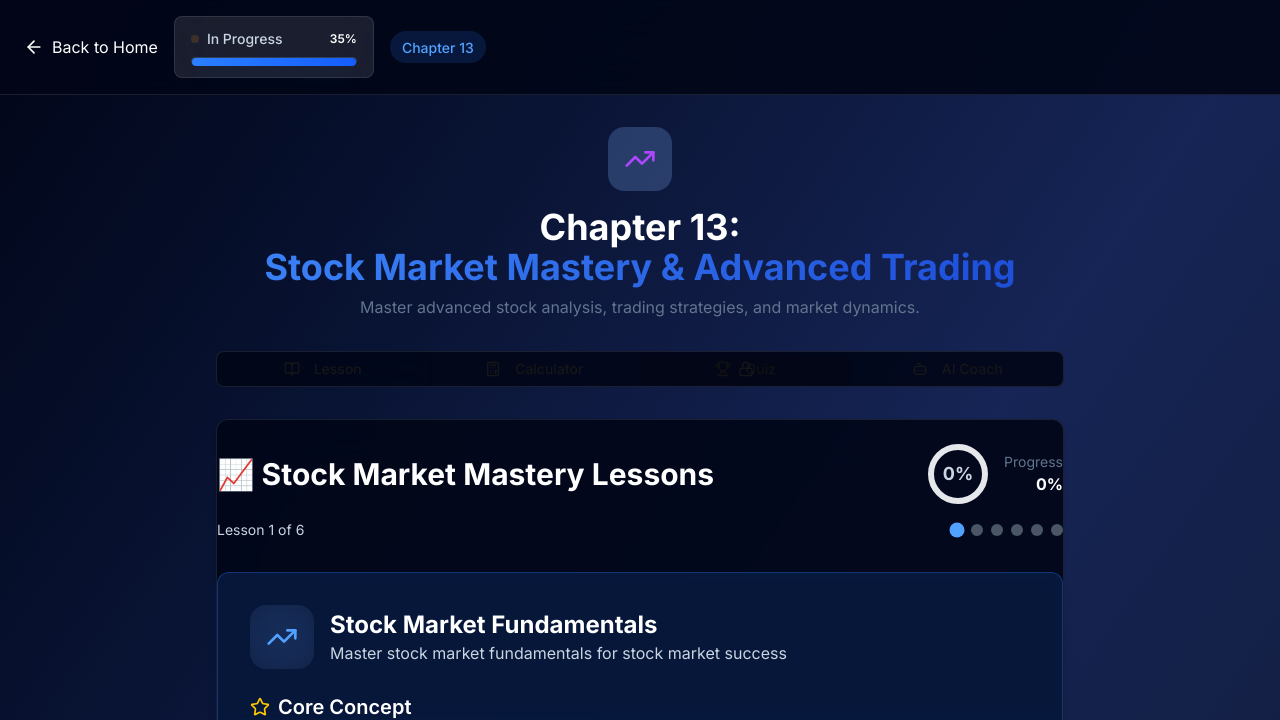
Test case: Chapter 13: Stock Market Mastery - Integration Tests › Calculator Integration › maintains calculator state between tab switches
# Click the calculator tab first
Click the tab "Calculator": [534, 369] box 428,352 -> 640,386
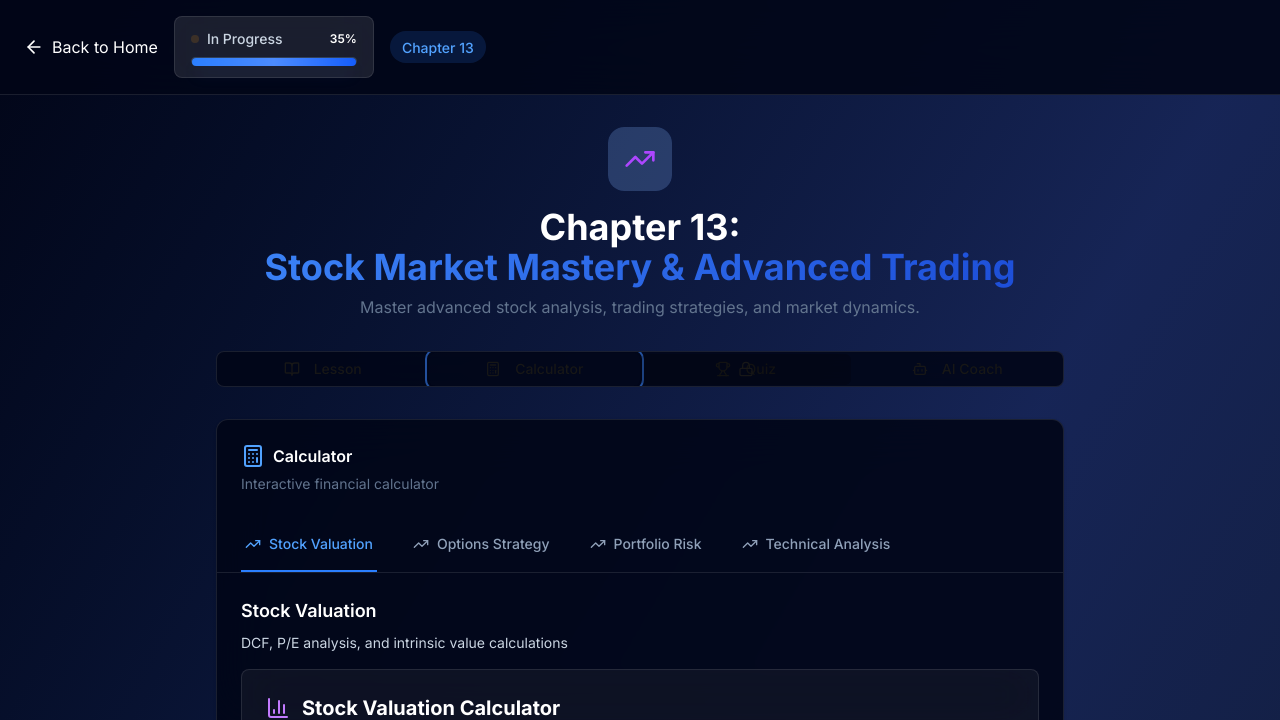
Click the button "Stock Valuation": [309, 545] box 241,518 -> 377,572
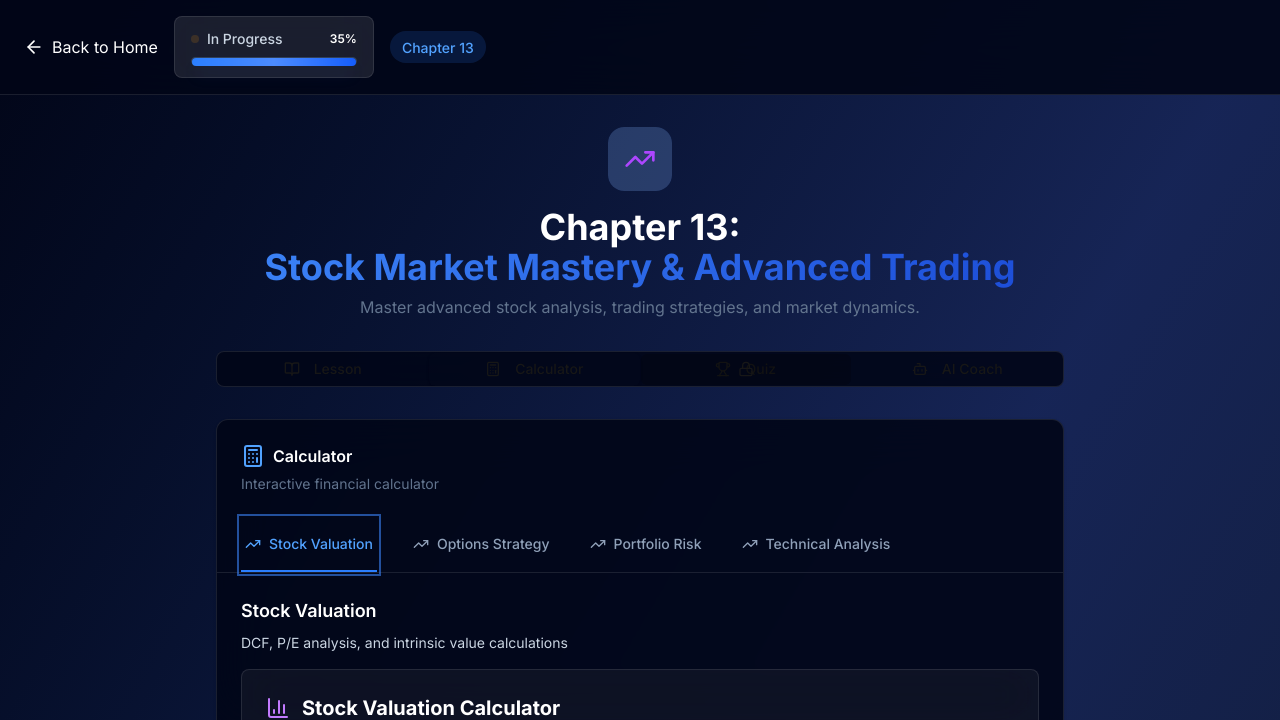
Click the button "Options Strategy": [481, 545] box 409,518 -> 554,572
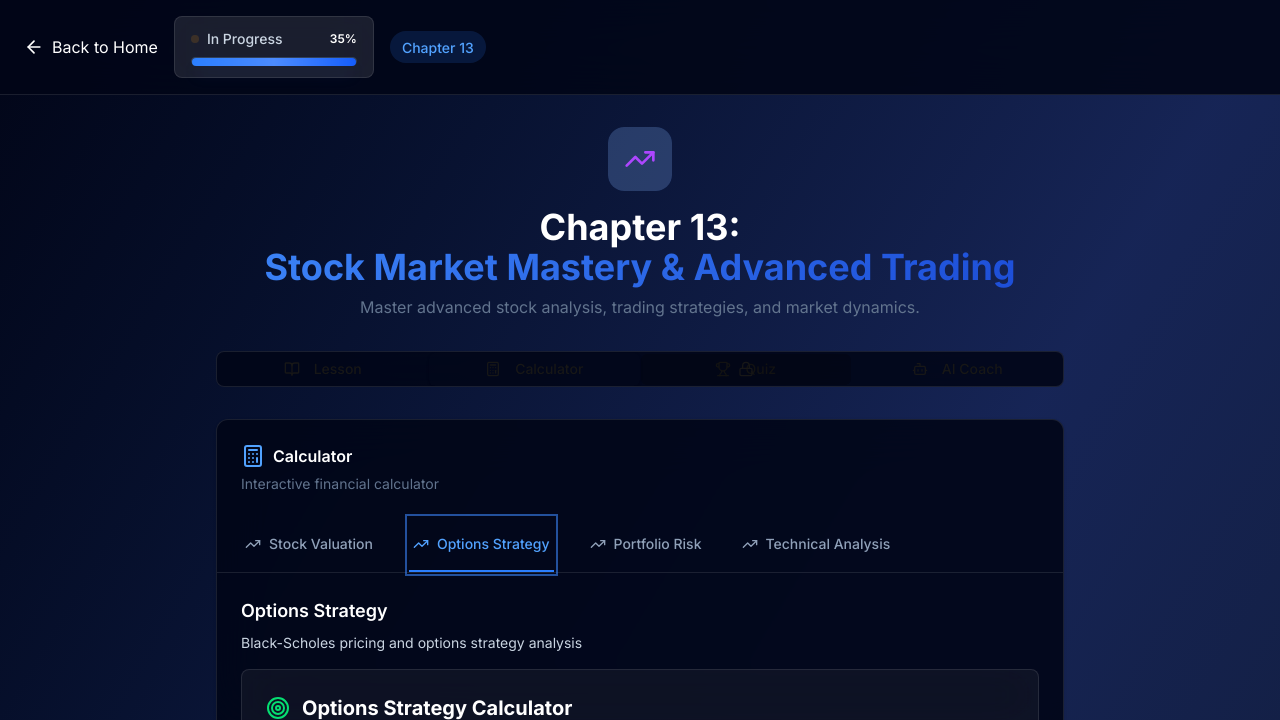
Click the button "Stock Valuation": [309, 545] box 241,518 -> 377,572
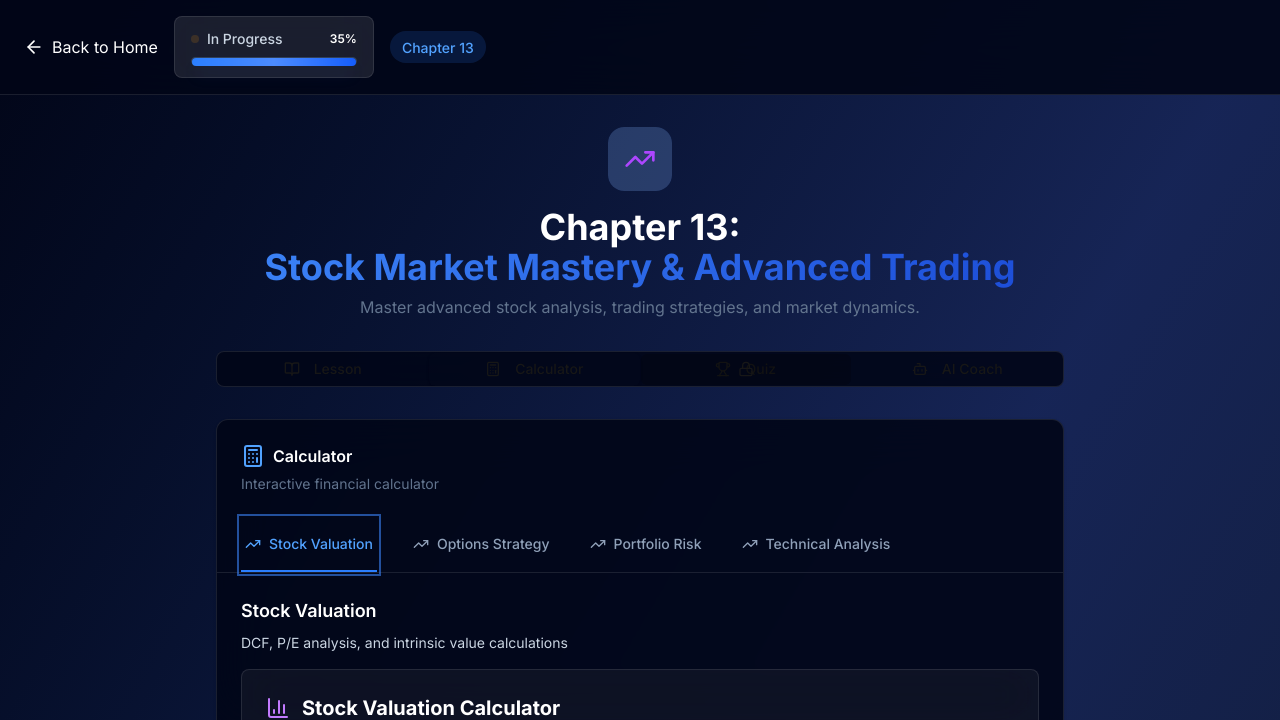
Expected: the text "DCF, P/E analysis, and intrinsic value calculations" is shown, 241,634 -> 568,651
